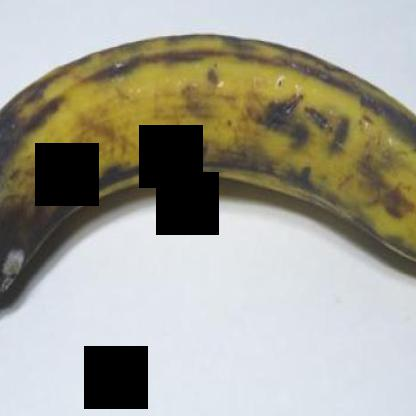overripe: (0, 15, 415, 326)
rotten: (0, 90, 83, 312)
